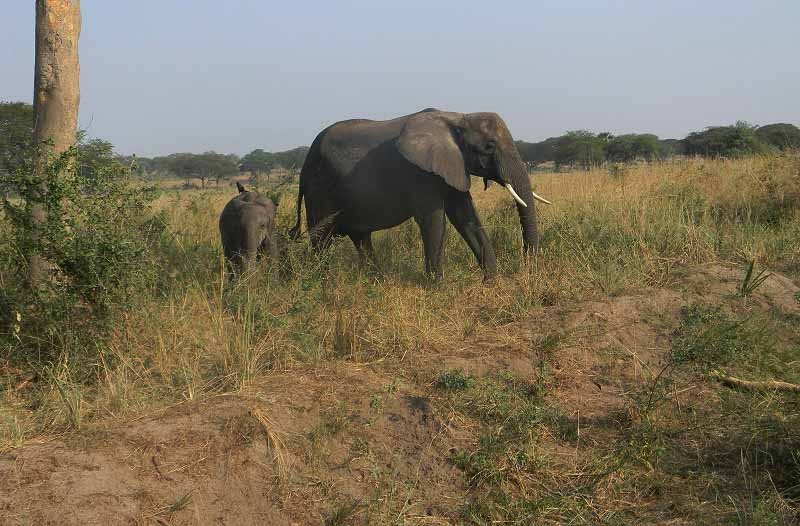elephant: (287, 104, 555, 297), (215, 177, 283, 310)
